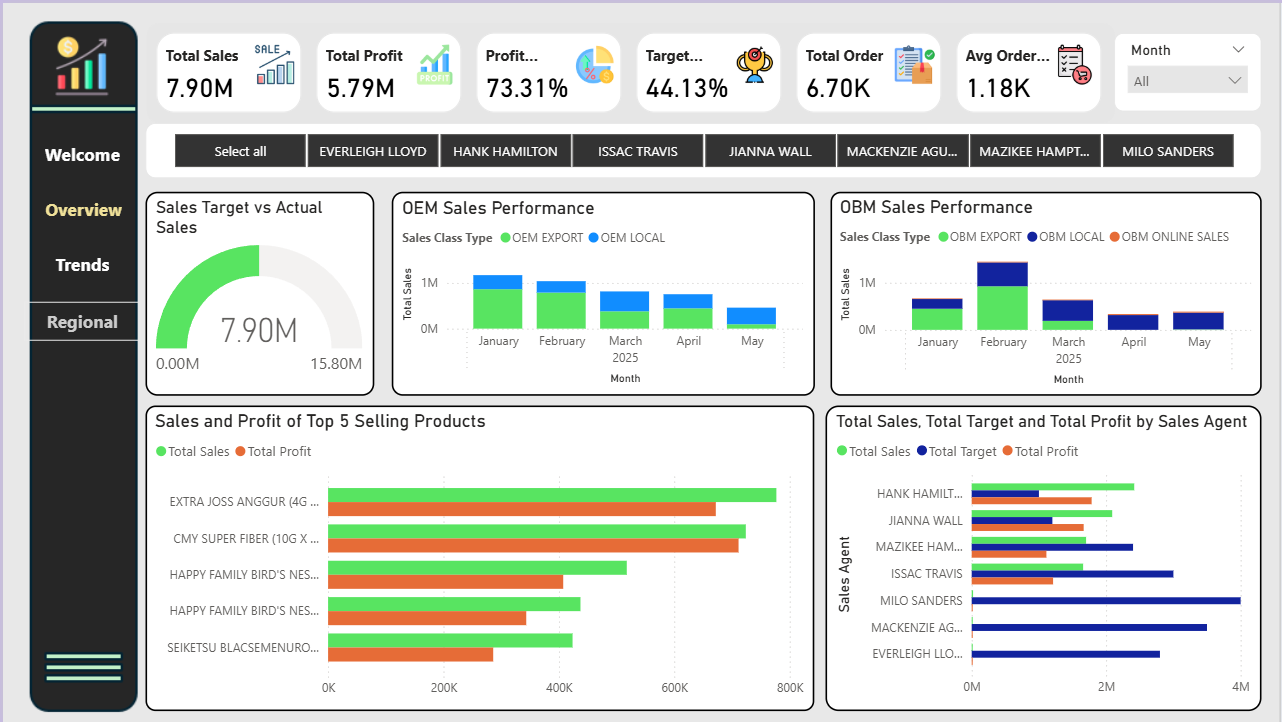

This screenshot's page, from the dashboard's own definition file:
{"tool":"powerbi","page":{"name":"Sales Overview","canvas":[1280,720],"ordinal":1},"visuals":[{"type":"cardVisual","fields":{"Data":["Measure (DAX).Total Sales","Measure (DAX).Total Profit","Measure (DAX).Profit Margin %","Measure (DAX).Target Achievement %","Measure (DAX).Total Order","Measure (DAX).Avg Order Value"]},"box":[143.3,20,968.3,100],"z":0},{"type":"slicer","fields":{"Values":["Calendar.Date.Variation.Date Hierarchy.Month"]},"box":[1111.4,30,147.1,78.6],"z":1000},{"type":"slicer","fields":{"Values":["Sales Target.Sales Agent"]},"box":[142.9,120,1115.7,55],"z":2000},{"type":"gauge","title":"Sales Target vs Actual Sales","fields":{"TargetValue":["Measure (DAX).Total Target"],"Y":["Measure (DAX).Total Sales"]},"box":[142.9,188.6,228.6,204.3],"z":3000},{"type":"clusteredBarChart","fields":{"Category":["Sales Target.Sales Agent"],"Y":["Measure (DAX).Total Sales","Measure (DAX).Total Target","Measure (DAX).Total Profit"]},"box":[822.9,402.9,435.7,305.7],"z":4000},{"type":"columnChart","title":"OBM Sales Performance","fields":{"Y":["Measure (DAX).Total Sales"],"Series":["Sales.Sales Class Type"],"Category":["Calendar.Date.Variation.Date Hierarchy.Year","Calendar.Date.Variation.Date Hierarchy.Month"]},"box":[827.1,188.6,431.4,204.3],"z":5000},{"type":"clusteredBarChart","title":"Sales and Profit of Top 5 Selling Products","fields":{"Category":["Stock Items.Description"],"Y":["Sales.Local Subtotal","Measure (DAX).Total Profit"]},"box":[142.9,402.9,668.6,305.7],"z":6000},{"type":"columnChart","title":"OEM Sales Performance","fields":{"Y":["Measure (DAX).Total Sales"],"Series":["Sales.Sales Class Type"],"Category":["Calendar.Date.Variation.Date Hierarchy.Year","Calendar.Date.Variation.Date Hierarchy.Month"]},"box":[388.6,188.6,422.9,204.3],"z":7000},{"type":"actionButton","box":[21.2,131.2,116.2,38.8],"z":8000},{"type":"actionButton","box":[22.5,186.2,116.2,38.8],"z":9000},{"type":"actionButton","box":[21.2,241.2,116.2,38.8],"z":10000},{"type":"actionButton","box":[21.2,298.8,116.2,38.8],"z":11000}]}

Visuals, with their boxes on the page's 1280x720 design canvas (x1, y1, x2, y2). These are canvas units, not pixel positions in the 1282x722 screenshot, which may show the page scaled, cropped or inside an application window:
cardVisual - Measure (DAX).Total Sales x Measure (DAX).Total Profit: BBox(143, 20, 1112, 120)
slicer - Calendar.Date.Variation.Date Hierarchy.Month: BBox(1111, 30, 1258, 109)
slicer - Sales Target.Sales Agent: BBox(143, 120, 1259, 175)
"Sales Target vs Actual Sales" gauge: BBox(143, 189, 372, 393)
clusteredBarChart - Sales Target.Sales Agent x Measure (DAX).Total Sales: BBox(823, 403, 1259, 709)
"OBM Sales Performance" columnChart: BBox(827, 189, 1258, 393)
"Sales and Profit of Top 5 Selling Products" clusteredBarChart: BBox(143, 403, 812, 709)
"OEM Sales Performance" columnChart: BBox(389, 189, 812, 393)
actionButton: BBox(21, 131, 137, 170)
actionButton: BBox(22, 186, 139, 225)
actionButton: BBox(21, 241, 137, 280)
actionButton: BBox(21, 299, 137, 338)
